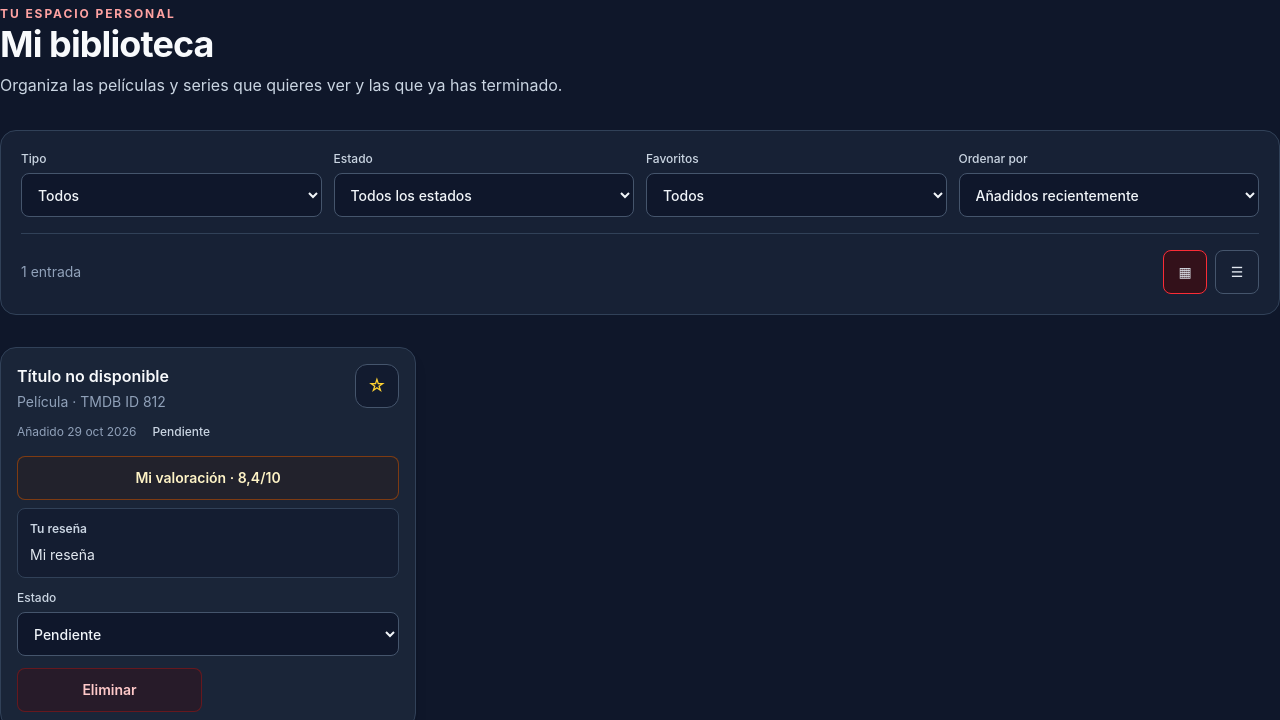
Scenario: LibraryPage › muestra la puntuación existente desde la tarjeta y reutiliza la lectura al editar
The image size is (1280, 720).
Check: the text "Mi reseña" is shown, box [30, 546, 95, 563]
Click the button with aria-label "Mi valoración · 8,4/10 de Título no disponible". click: click(208, 478)
box: [17, 456, 399, 500]
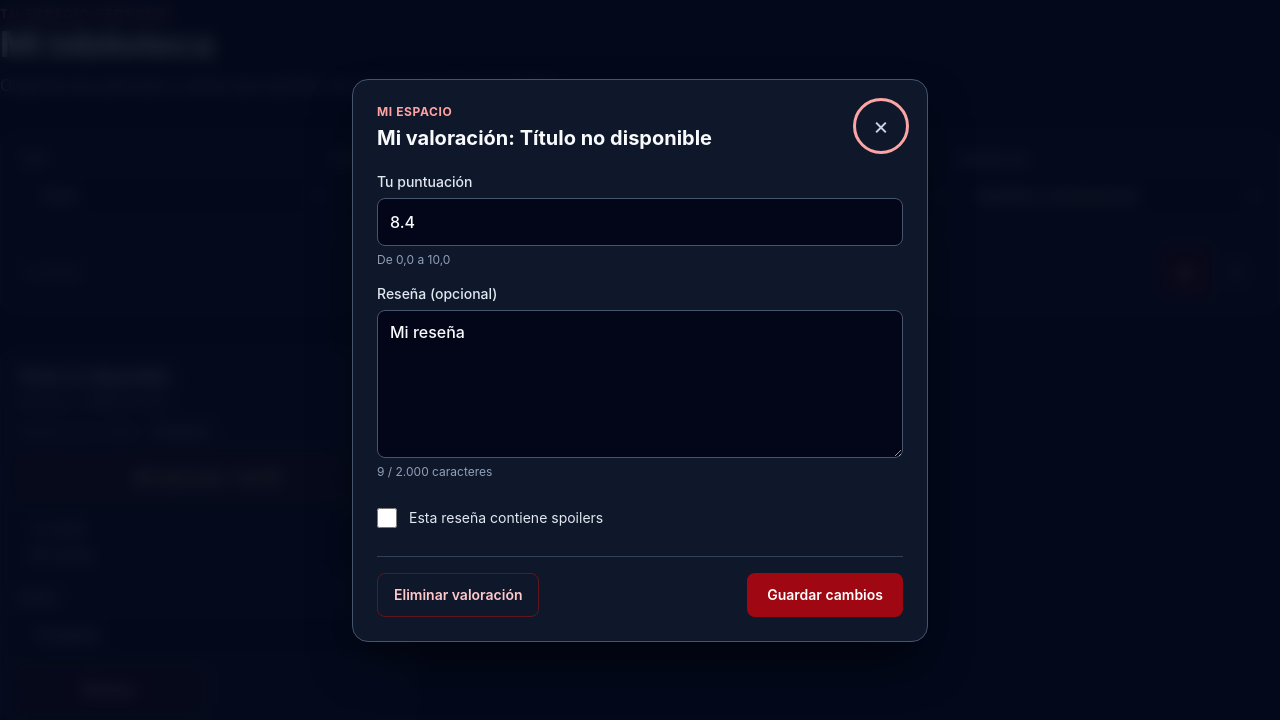
Check: the text box showing "Mi reseña" is shown, box [377, 310, 903, 458]
